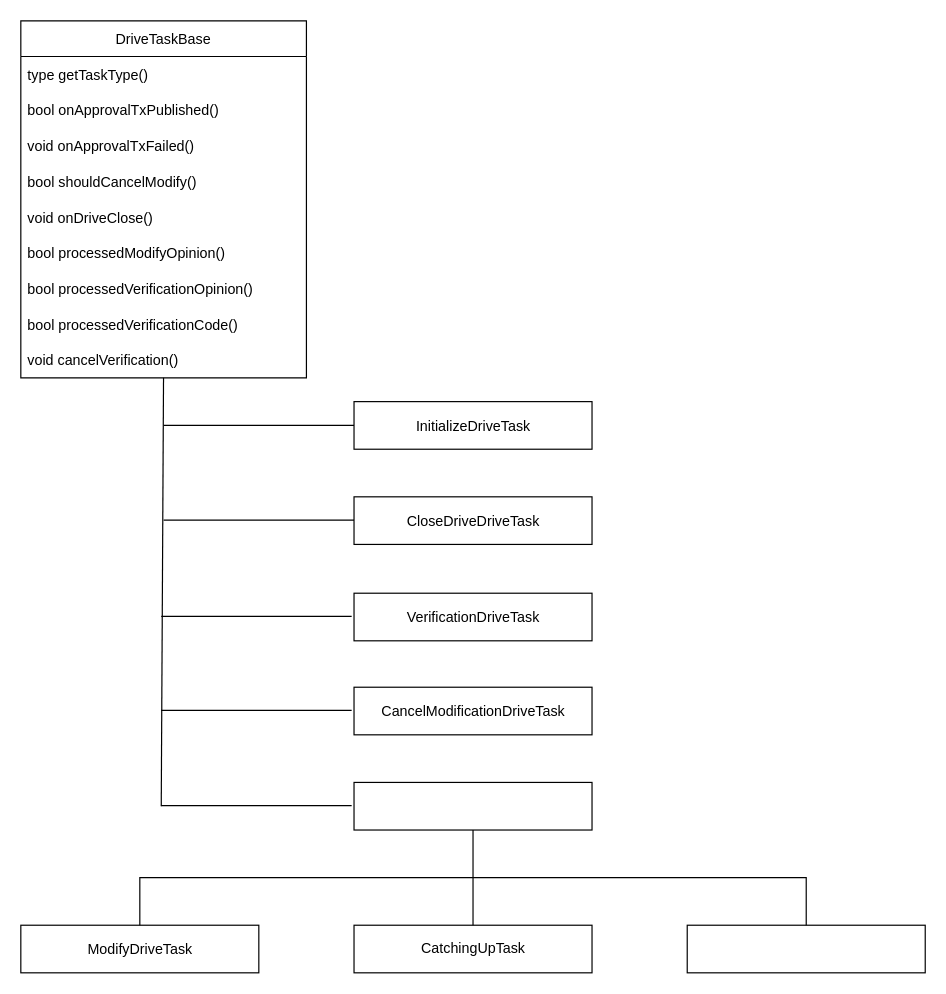
This 946x994 diagram has some shape labels left out. Each missing label, with the centre of its shape:
StreamingTask: [805,948]
UpdateDriveTaskBase: [472,805]
